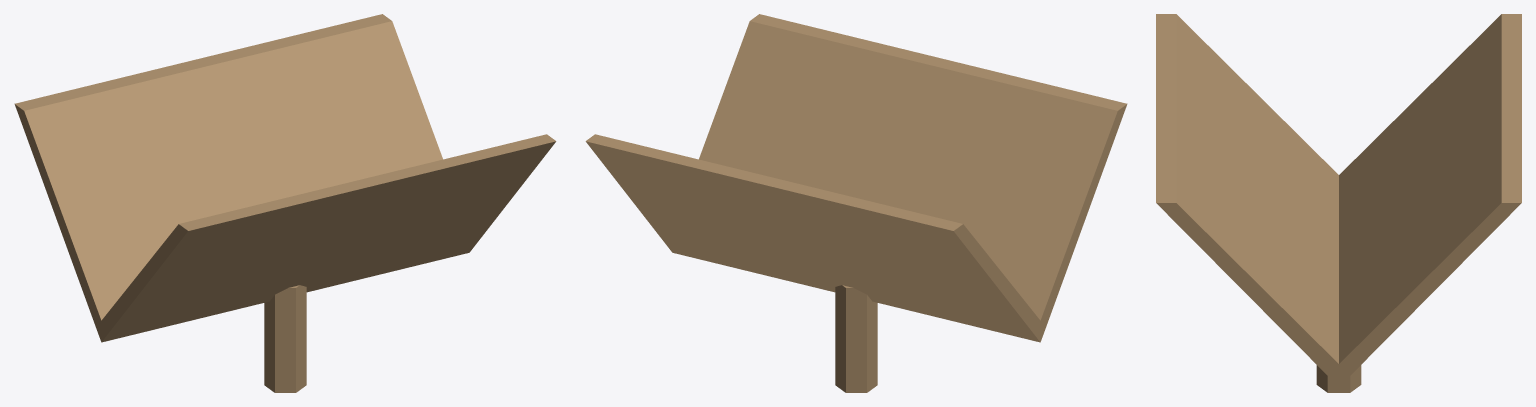
Rendered from prop-mortar-hod-mm1.fbx.
3 views of the same model, side by side, from view 1: azimuth 30°, elevation 25°; view 2: azimuth 150°, elevation 25°; view 3: azimuth 270°, elevation 25° (orthographic). The views are drawn at different scales.
Parts seen in each view (by area): view 1: prop-mortar-hod-mm1; view 2: prop-mortar-hod-mm1; view 3: prop-mortar-hod-mm1.
Boxes of the visible parts, box(x1,y1,x2,y2) form: prop-mortar-hod-mm1: box(14, 14, 556, 392); prop-mortar-hod-mm1: box(585, 14, 1127, 392); prop-mortar-hod-mm1: box(1156, 14, 1521, 392).
Size of the model in its own units: 44 by 30 by 36.
